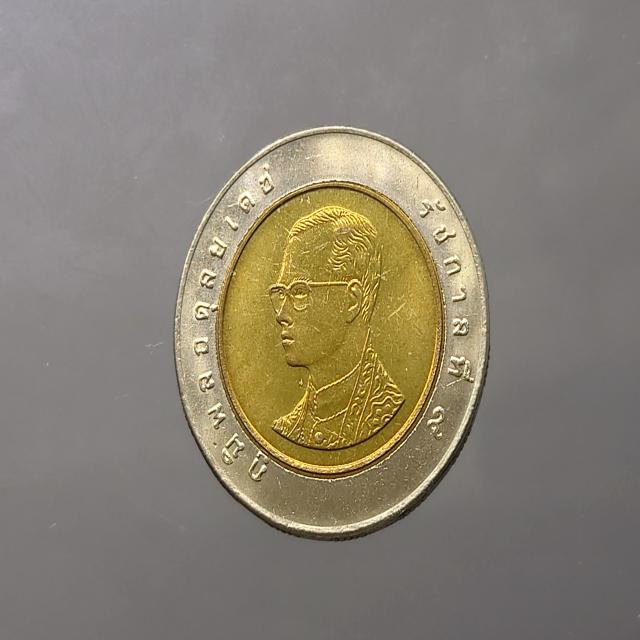10 Bath: (171, 122, 493, 547)
